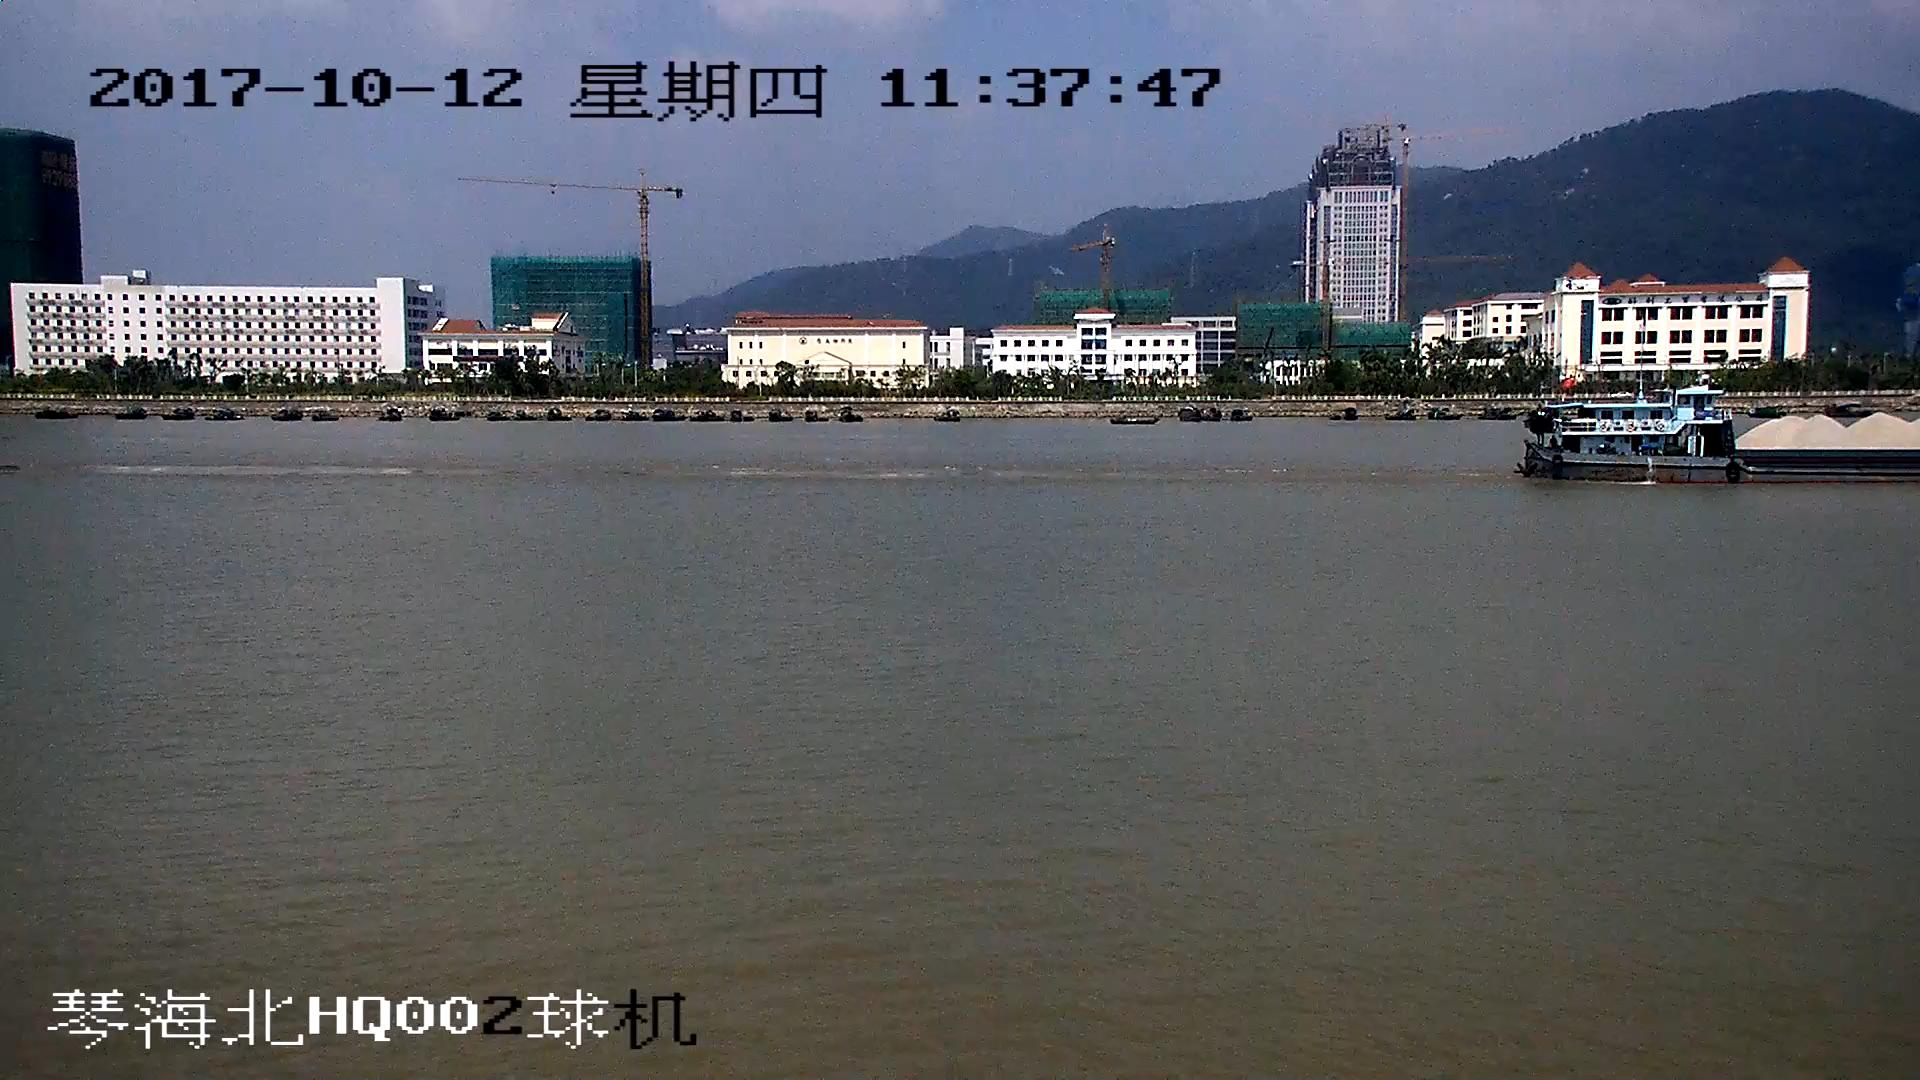ore carrier: (1525, 393, 1920, 478)
